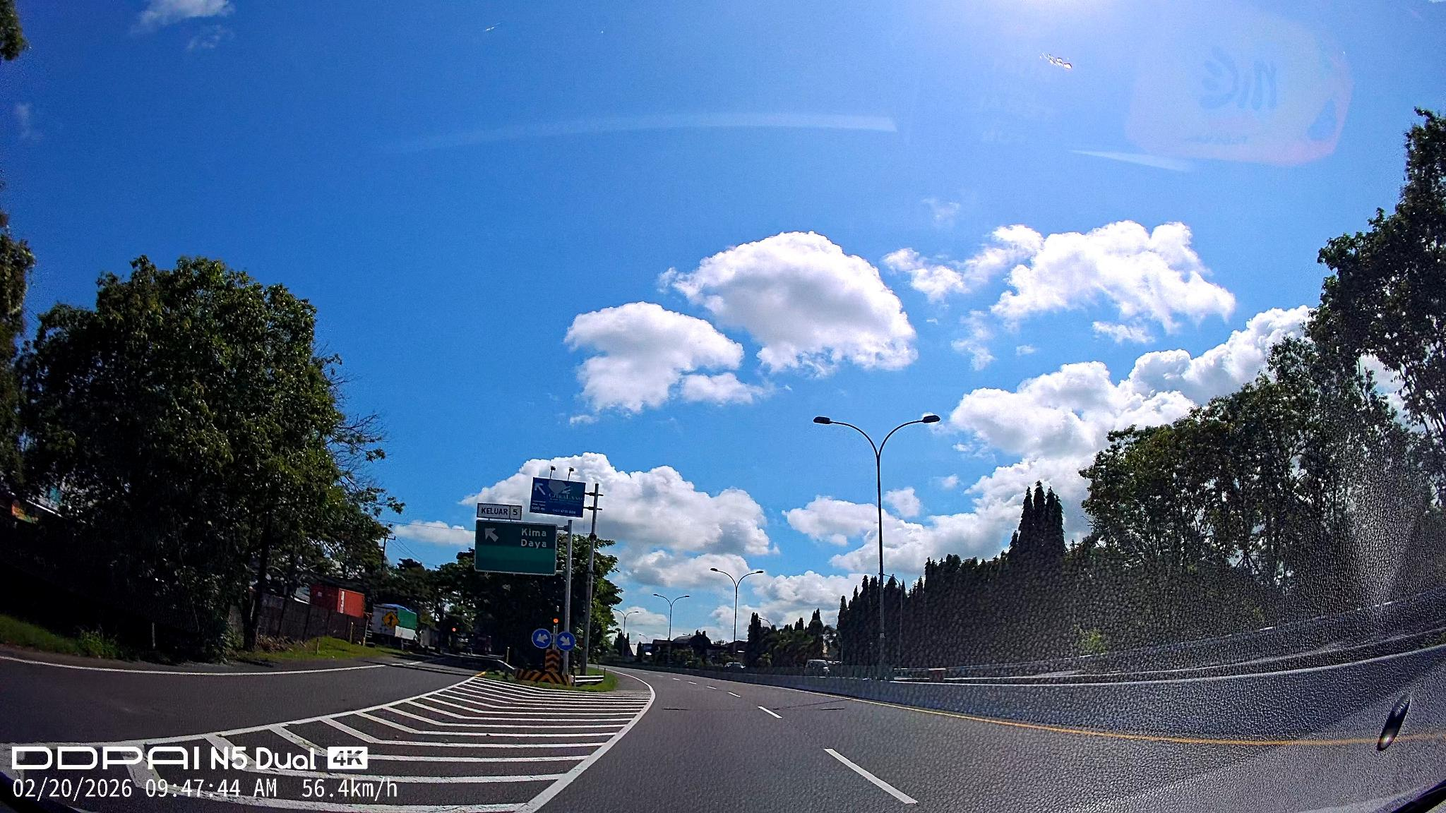rambu_teks: (474, 519, 559, 577)
